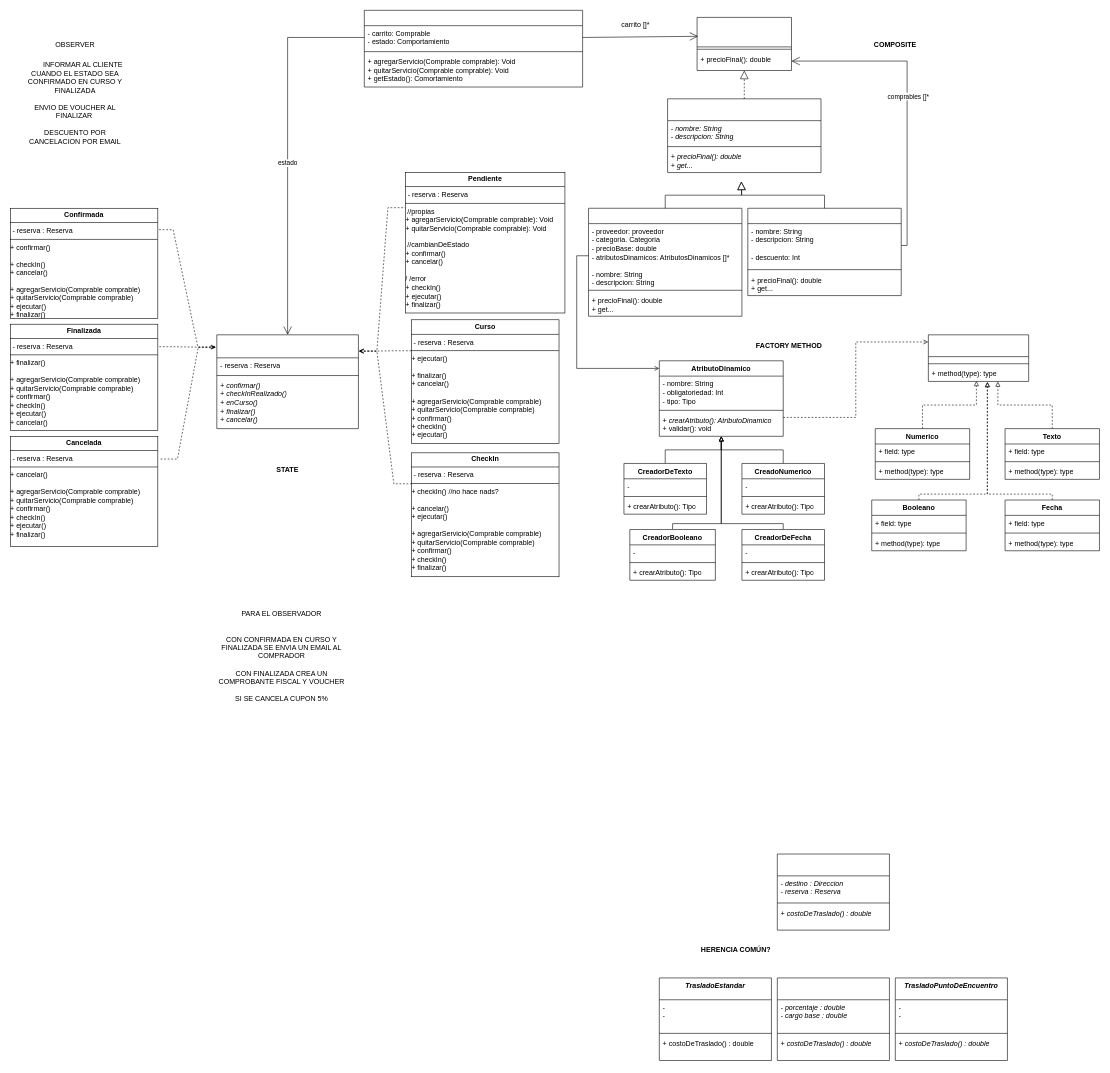
Image size: 1110x1073. Some labels were removed from this diagram. Each missing label, with the box of its shape:
<< abstract >> Servicio/: (667, 98, 821, 173)
<< abstract >> Traslado: (777, 853, 889, 930)
<<abstract>> Estado/: (216, 334, 358, 429)
<<interface>> Comprable: (696, 17, 791, 71)
<<interface>> Ti po: (928, 334, 1029, 381)
Paquete: (747, 208, 901, 296)
Reserva: (364, 10, 583, 87)
ServicioIndividual: (588, 208, 742, 316)
TrasladoVip: (777, 977, 889, 1061)
